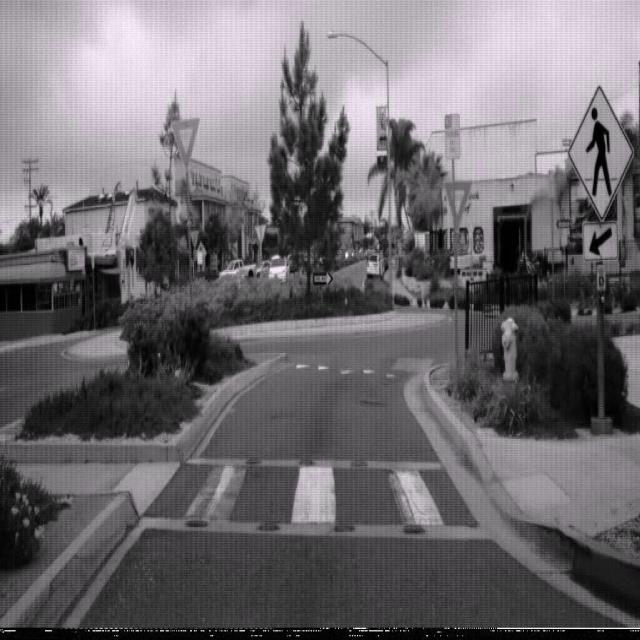pedestrianCrossing: (567, 84, 634, 224)
yield: (170, 115, 200, 169), (442, 179, 472, 232)
